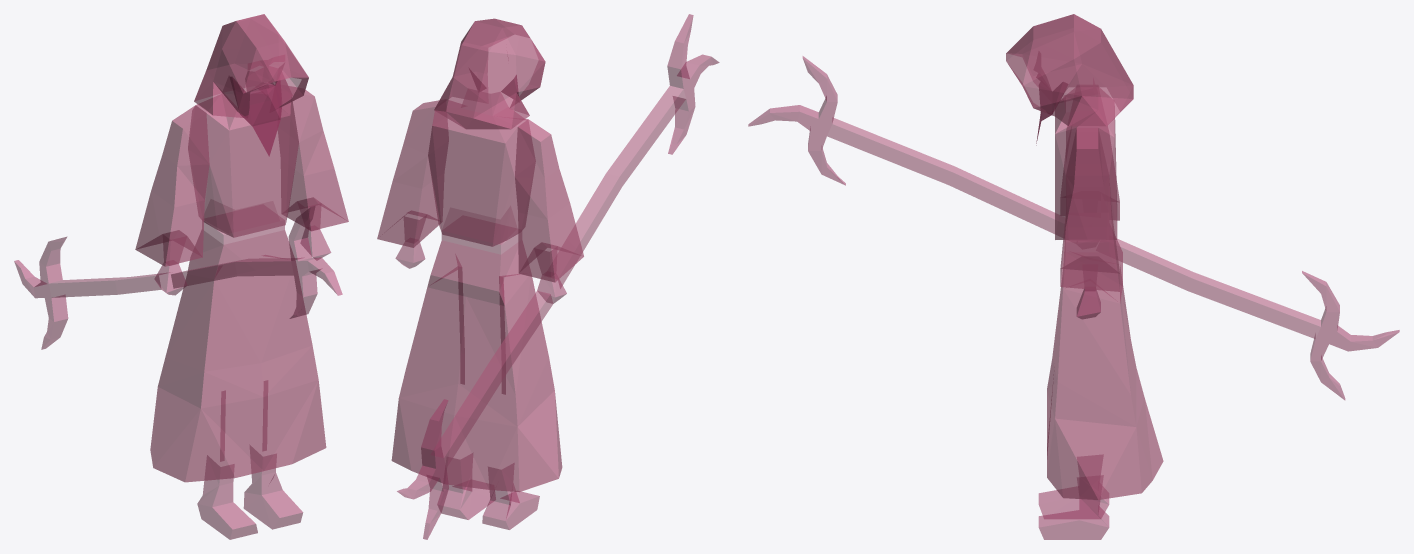
File: barrows-brothers.gltf
The picture shows the model from 3 angles, left to right: view 1: azimuth 30°, elevation 25°; view 2: azimuth 150°, elevation 25°; view 3: azimuth 270°, elevation 25°; orthographic projection. The views are drawn at different scales.
Bounding box in the file's own units: 78 × 204 × 240.
Materials: 1 (1 with a texture image).
